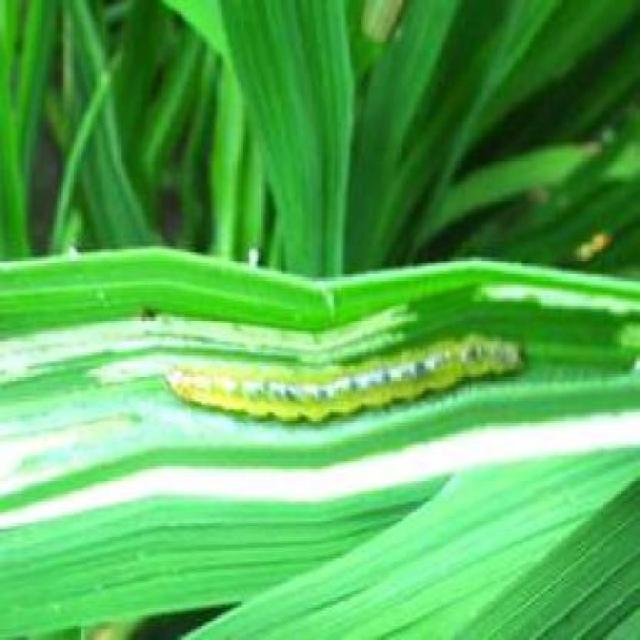leaf-folder: (169, 322, 523, 458)
